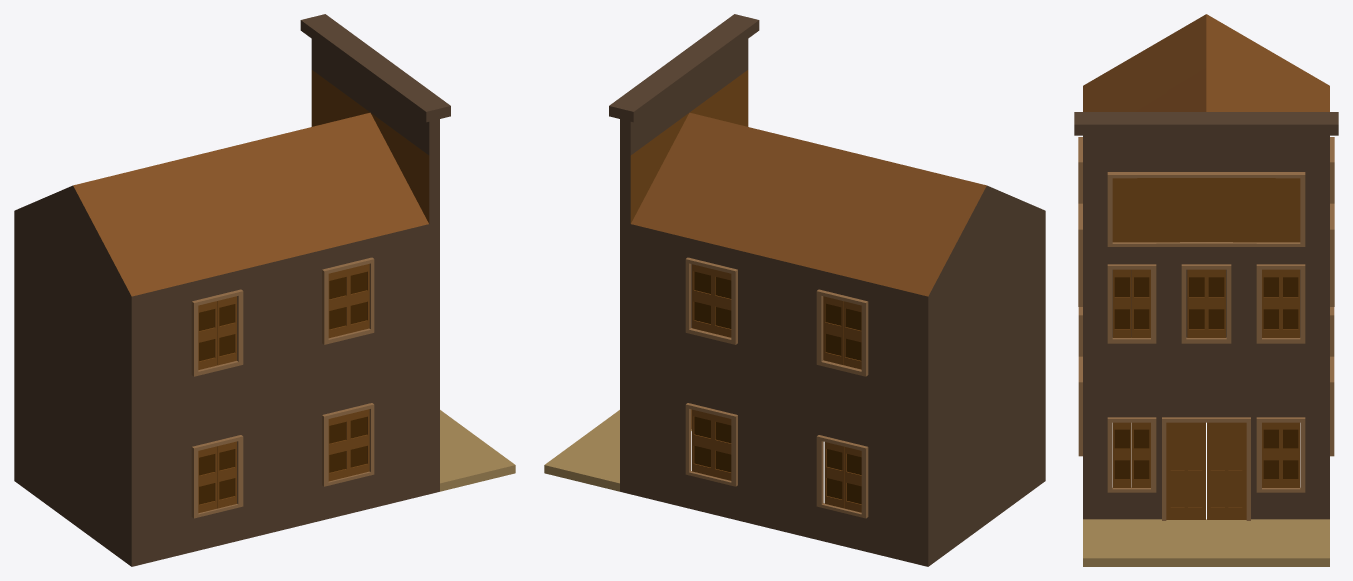
Rendered from House_2.fbx.
The picture shows the model from 3 angles, left to right: view 1: azimuth 30°, elevation 25°; view 2: azimuth 150°, elevation 25°; view 3: azimuth 270°, elevation 25°; orthographic projection. The views are drawn at different scales.
Visible parts, largest first — view 1: House_2; view 2: House_2; view 3: House_2.
Part boxes in pixels (box(x1,y1,x2,y2)): House_2: box(14, 14, 515, 566); House_2: box(544, 14, 1045, 566); House_2: box(1074, 14, 1338, 566).
Size of the model in its own units: 23.72 by 22.86 by 13.43.
